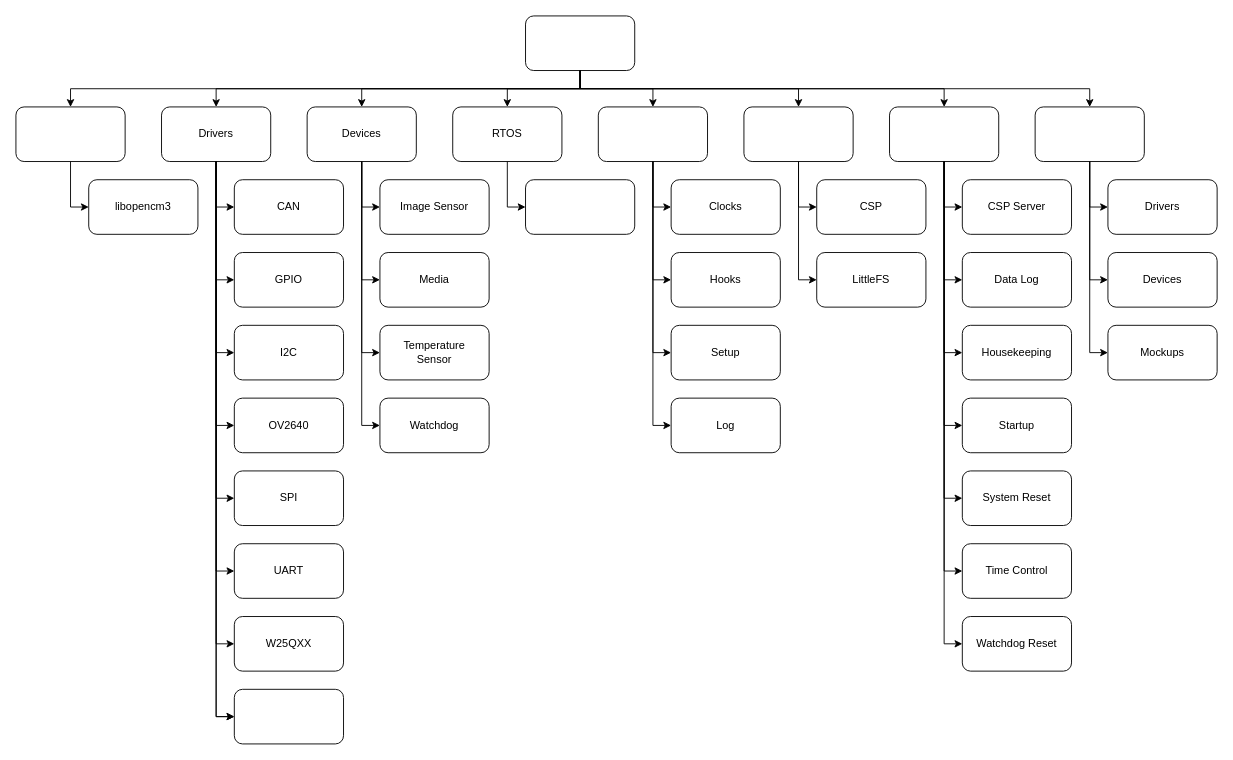
The diagram is 1233 pixels wide and 760 high, and some of its shapes have lost their labels. Each missing label, with the centre of its shape:
FreeRTOS: point 580,206
HAL: point 70,134
Libraries: point 798,134
SLCam Firmware: point 580,43
System: point 652,134
Tasks: point 944,134
Tests: point 1089,134
WDT: point 288,716
